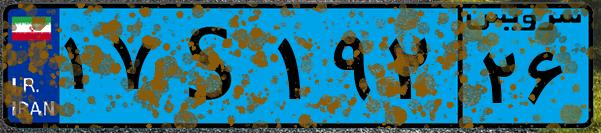1: (270, 28, 330, 110), (57, 26, 110, 100)
2: (385, 28, 445, 110), (475, 38, 525, 113)
6: (525, 38, 570, 115)
7: (110, 28, 158, 98)
9: (330, 28, 385, 110)
S: (158, 12, 270, 120)
